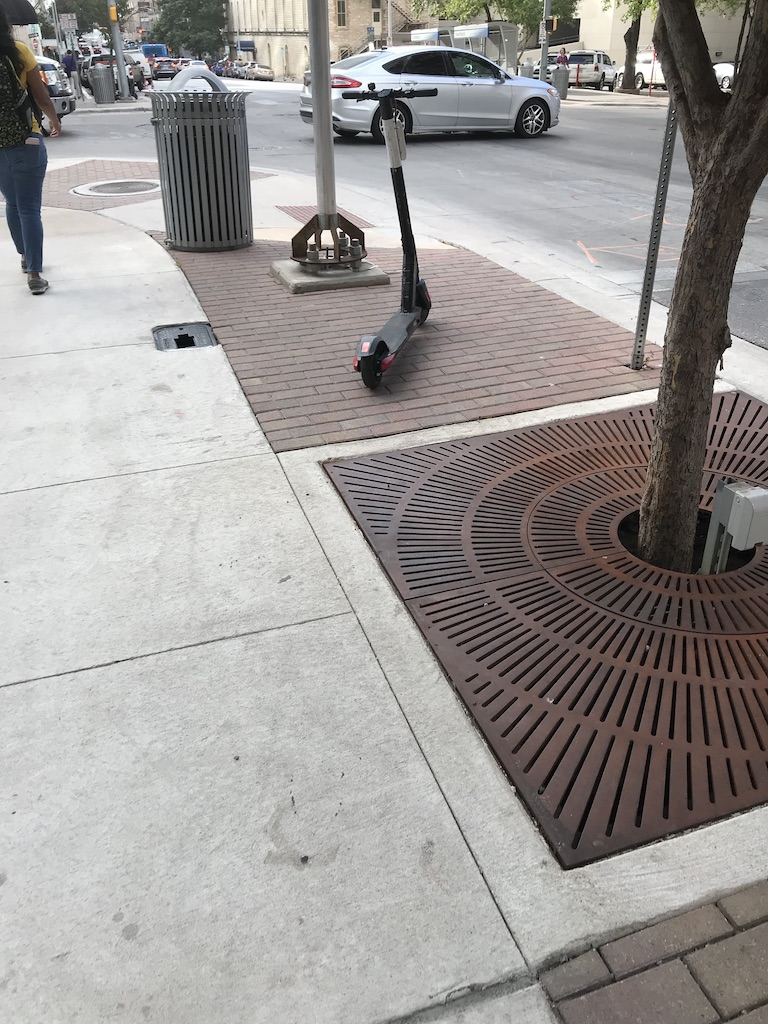scooter: (337, 81, 441, 391)
